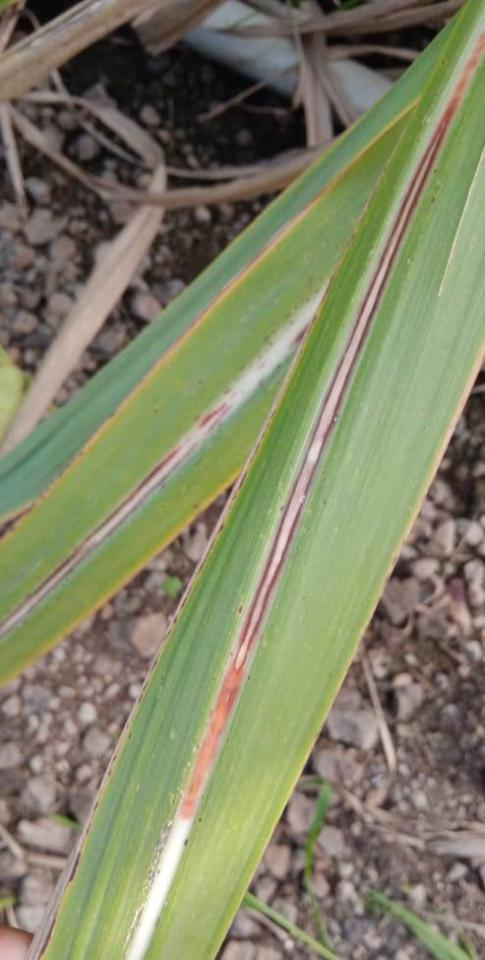RedRot: (179, 28, 485, 820)
